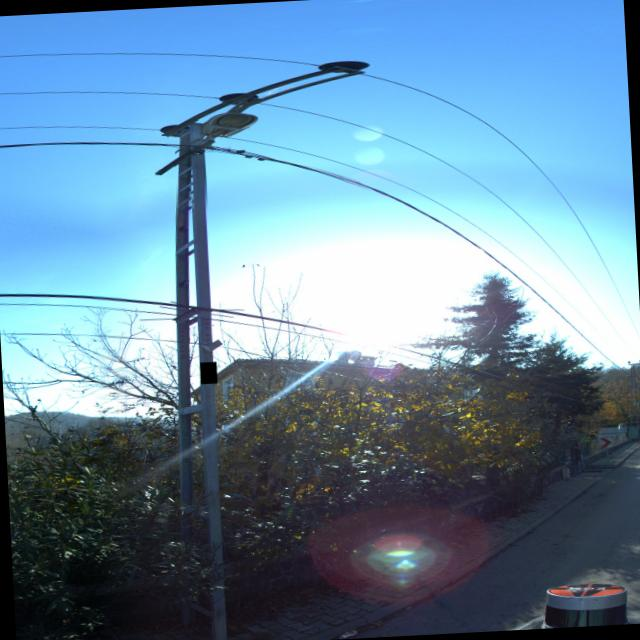Utility Pole Information Plate: (200, 363, 218, 384)
